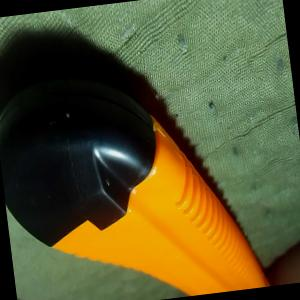estilete: (0, 49, 271, 300)
